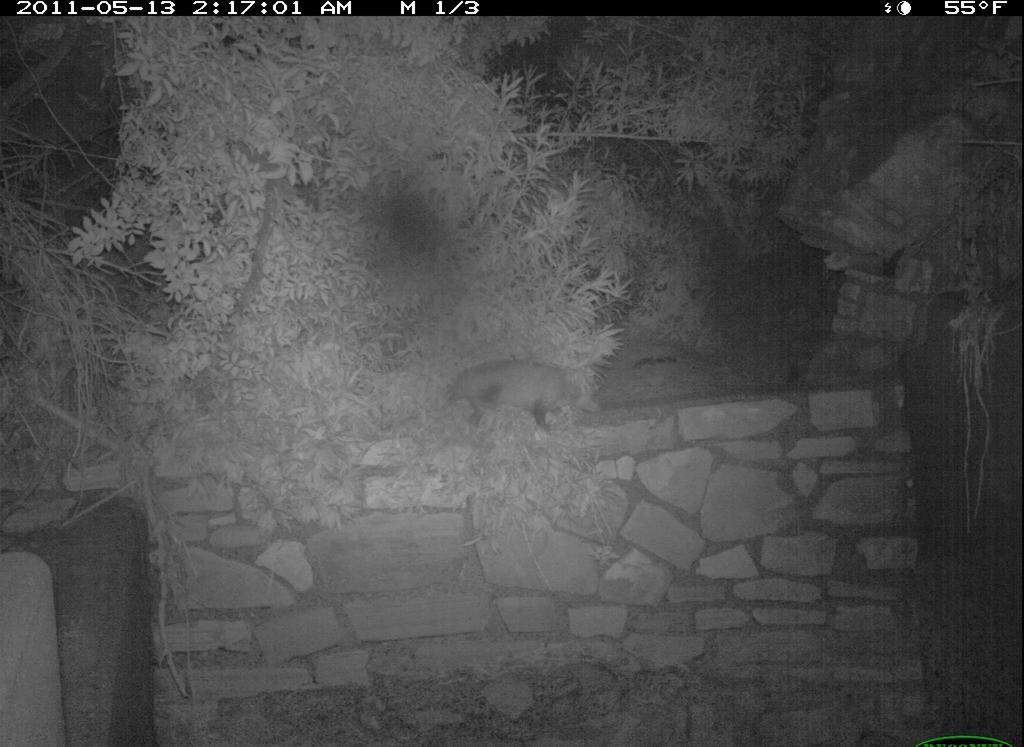opossum: (432, 358, 593, 434)
